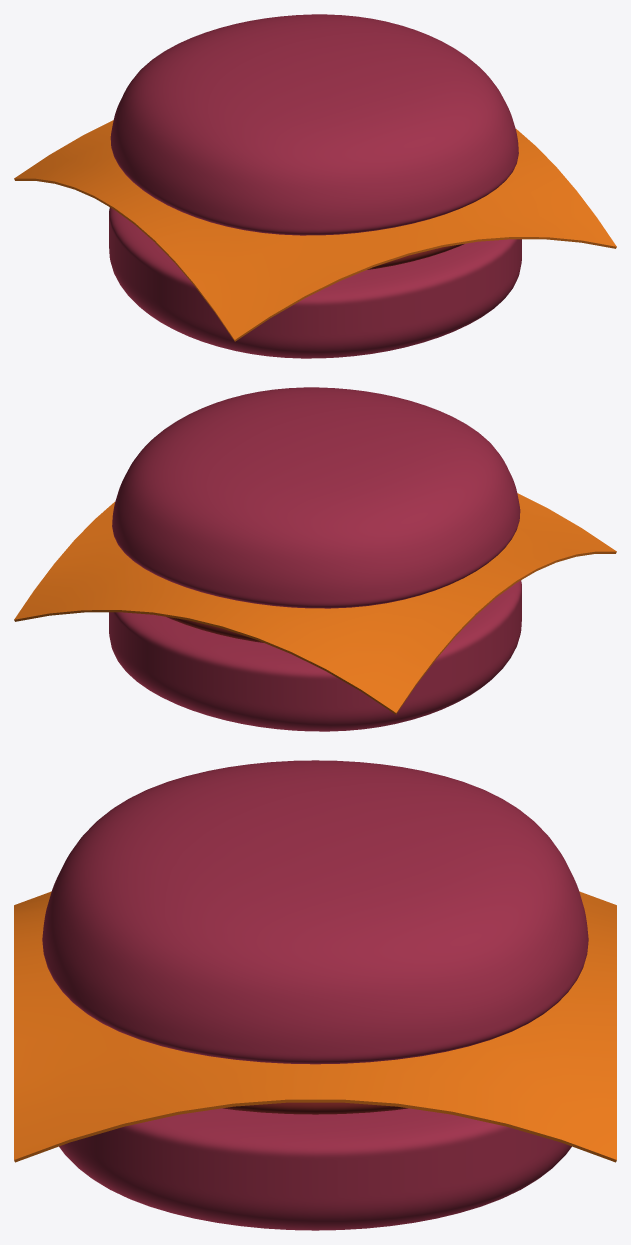
Rendered from burguer.gltf.
The picture shows the model from 3 angles, top to bottom: view 1: azimuth 30°, elevation 25°; view 2: azimuth 150°, elevation 25°; view 3: azimuth 270°, elevation 25°; orthographic projection. The views are drawn at different scales.
Visible parts, largest first — view 1: Cube.002, Plane, Cube, Cube.001; view 2: Cube.002, Plane, Cube, Cube.001; view 3: Cube.002, Plane, Cube, Cube.001.
Boxes of the visible parts, <box> form: Cube.002: <box>110,14,518,235</box>; Plane: <box>14,120,616,341</box>; Cube: <box>109,207,521,358</box>; Cube.001: <box>367,244,463,269</box>; Cube.002: <box>112,387,520,608</box>; Plane: <box>14,493,616,714</box>; Cube: <box>109,580,521,731</box>; Cube.001: <box>167,617,263,642</box>; Cube.002: <box>42,760,588,1064</box>; Plane: <box>14,891,616,1162</box>; Cube: <box>59,1108,571,1230</box>; Cube.001: <box>223,1102,407,1114</box>.
Size of the model in its own units: 2 by 1.19 by 2.
